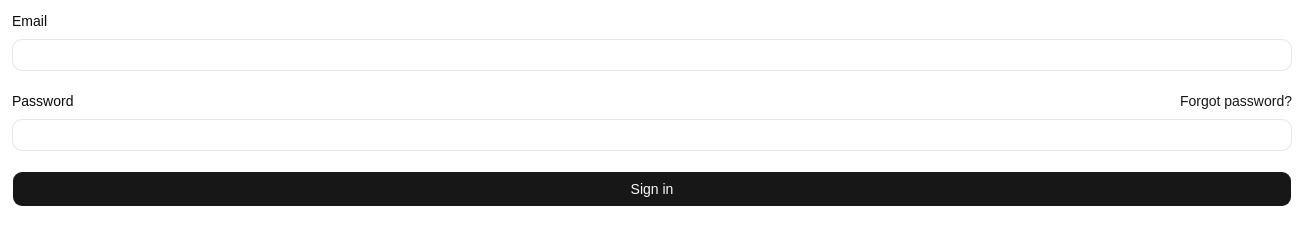
it: submits labeled credentials and reports authentication errors accessibly
Type "traveler@example.com" into the field labelled "Email". click: (652, 55)
box: [12, 39, 1292, 71]
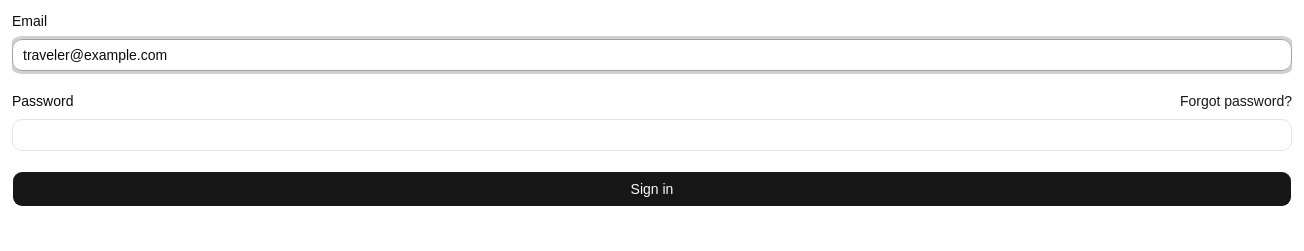
Type "wrong-password" into the password field labelled "Password". click: (652, 135)
box: [12, 119, 1292, 151]
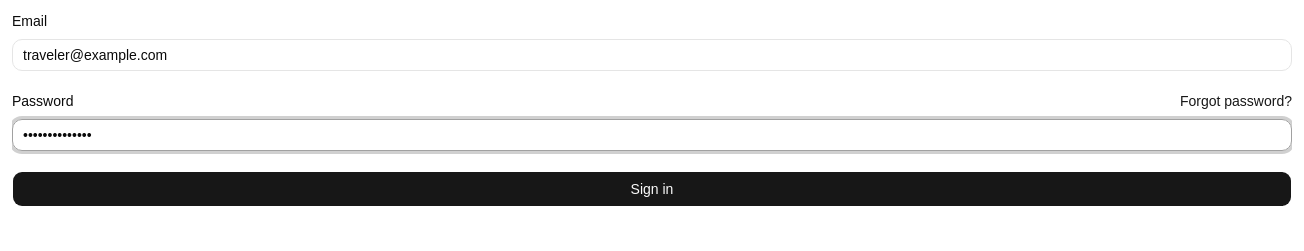
Click the button "Sign in". click: (652, 189)
box: [12, 171, 1292, 207]
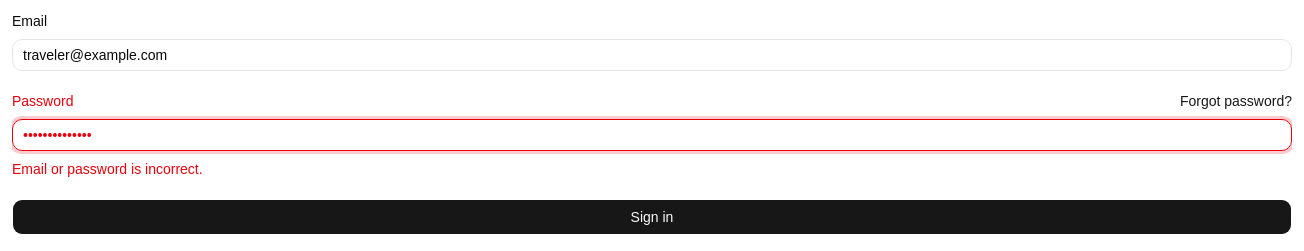
Result: the message reads "Email or password is incorrect." at [12, 161, 203, 177]
